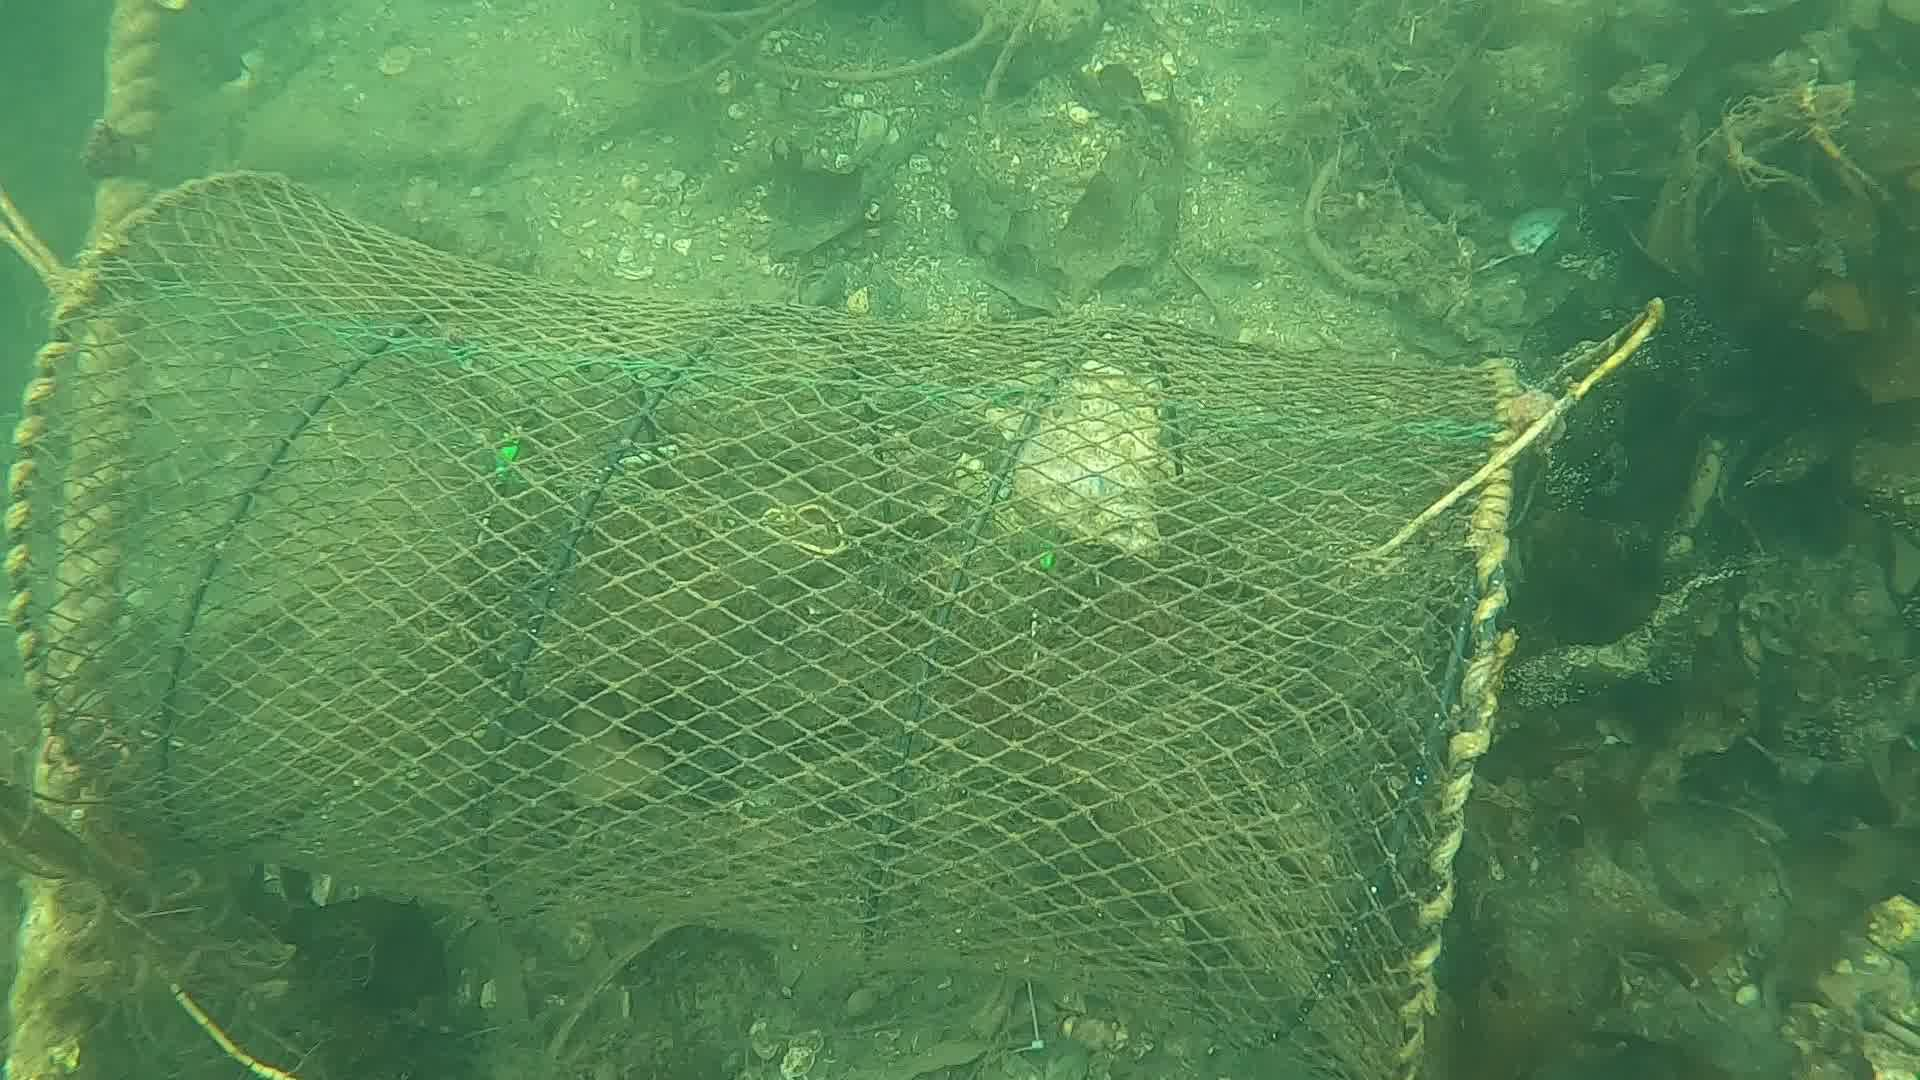bundle of ropes: (0, 190, 65, 286)
rope: (7, 0, 162, 1080)
spring fish trap: (3, 167, 1528, 1080)
